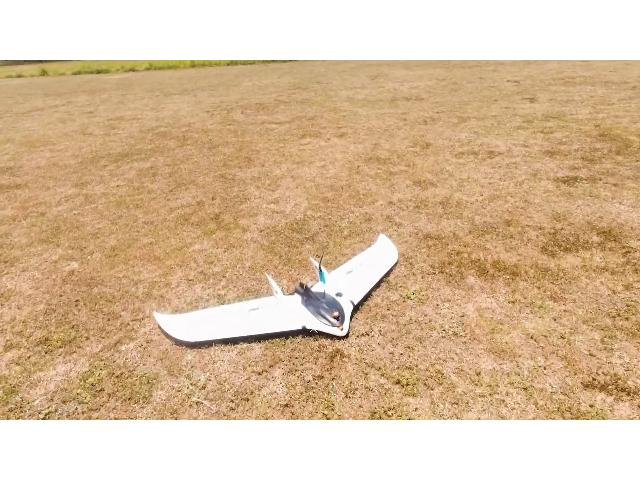Anti-Drone: (138, 224, 412, 358)
